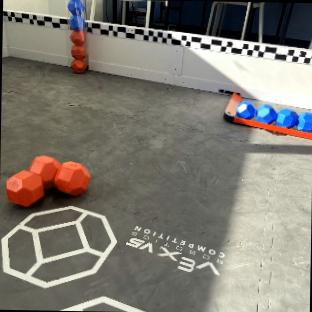Parking-R: (224, 93, 312, 140)
V5_BLUE: (67, 0, 84, 30), (256, 104, 277, 122), (276, 109, 297, 127), (236, 100, 255, 119), (297, 111, 312, 131)
V5_RED: (6, 155, 89, 206), (70, 30, 85, 71)
